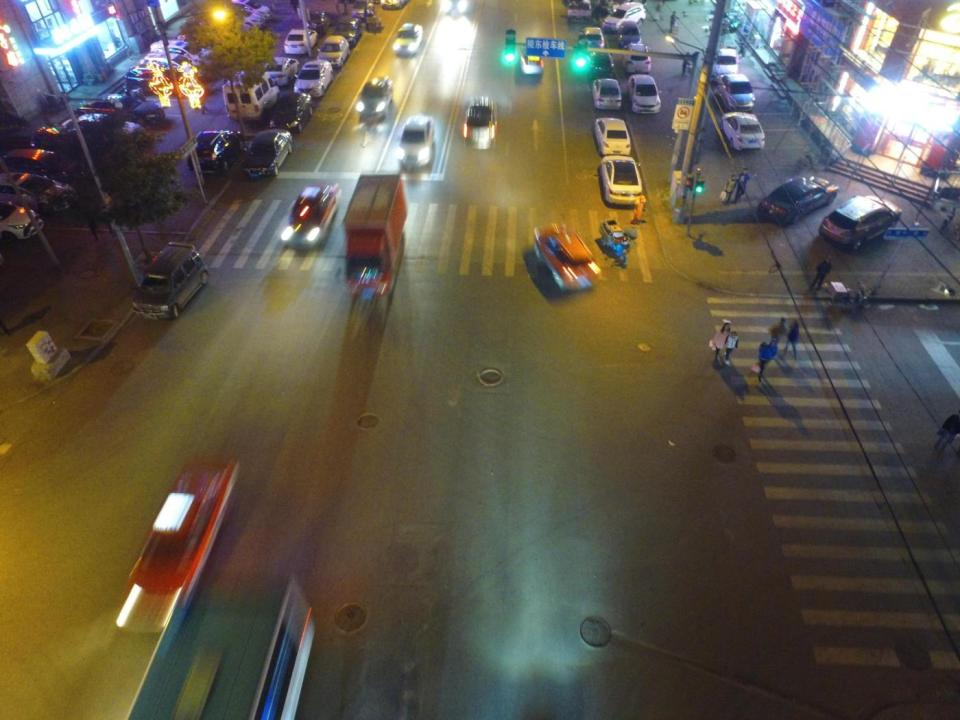bus: (114, 578, 312, 718)
car: (128, 457, 242, 597), (133, 240, 210, 320), (822, 194, 901, 252), (759, 172, 842, 226), (533, 224, 595, 292), (281, 186, 338, 247), (79, 90, 164, 126), (0, 171, 75, 210), (2, 146, 84, 180), (63, 111, 144, 145), (34, 124, 102, 164), (185, 130, 241, 178), (597, 156, 646, 206), (248, 126, 292, 180), (397, 115, 435, 170), (463, 94, 496, 150), (722, 111, 764, 152), (356, 76, 396, 118), (0, 202, 43, 240), (126, 67, 183, 95), (204, 4, 264, 30), (151, 42, 213, 67), (278, 91, 314, 133), (193, 13, 252, 38), (145, 53, 201, 79), (593, 118, 630, 157), (297, 58, 332, 98), (627, 75, 661, 116), (718, 73, 751, 111), (602, 3, 646, 31), (392, 23, 425, 56), (264, 56, 297, 87), (319, 36, 350, 68), (517, 43, 544, 78), (331, 16, 362, 46), (591, 78, 620, 110), (584, 49, 614, 79), (229, 0, 275, 19), (624, 44, 651, 72), (301, 8, 331, 33), (714, 48, 740, 76), (286, 29, 315, 53), (581, 26, 605, 52), (618, 21, 640, 47), (355, 0, 373, 20)
truck: (343, 173, 408, 285)
van: (222, 65, 281, 122), (568, 0, 593, 23), (380, 0, 404, 10)
